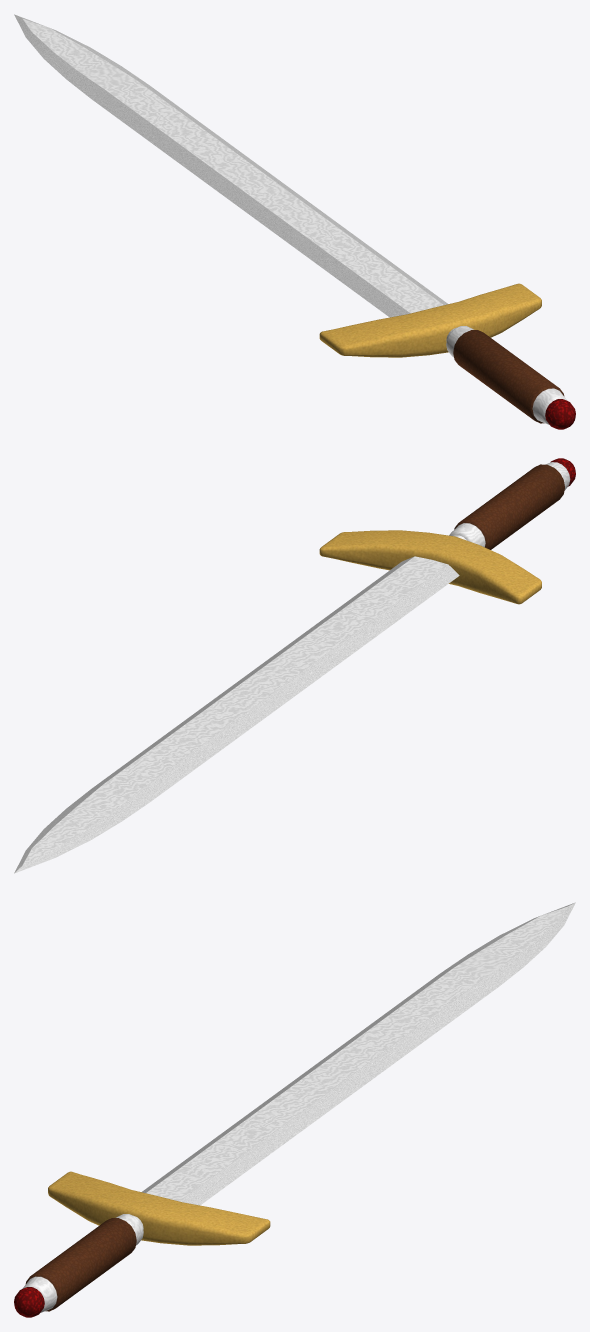
File: FantasySword.gltf
3 renders of one model, top to bottom at view 1: azimuth 30°, elevation 25°; view 2: azimuth 150°, elevation 25°; view 3: azimuth 330°, elevation 25°, orthographic.
Parts seen in each view (by area): view 1: Blade, CrossG, Hilt, Gem; view 2: Blade, CrossG, Hilt; view 3: Blade, CrossG, Hilt, Gem.
Part boxes in pixels (left/top/right/bottom): Blade: left=14, top=14, right=448, bottom=317; CrossG: left=319, top=283, right=541, bottom=357; Hilt: left=446, top=326, right=567, bottom=424; Gem: left=545, top=399, right=575, bottom=429; Blade: left=14, top=556, right=459, bottom=873; CrossG: left=319, top=530, right=541, bottom=604; Hilt: left=449, top=462, right=570, bottom=549; Blade: left=141, top=902, right=575, bottom=1205; CrossG: left=48, top=1171, right=270, bottom=1245; Hilt: left=22, top=1214, right=143, bottom=1312; Gem: left=14, top=1287, right=44, bottom=1317.
Size of the model in its own units: 0.3161 by 0.0556 by 1.5.
1 material, 1 textured.
